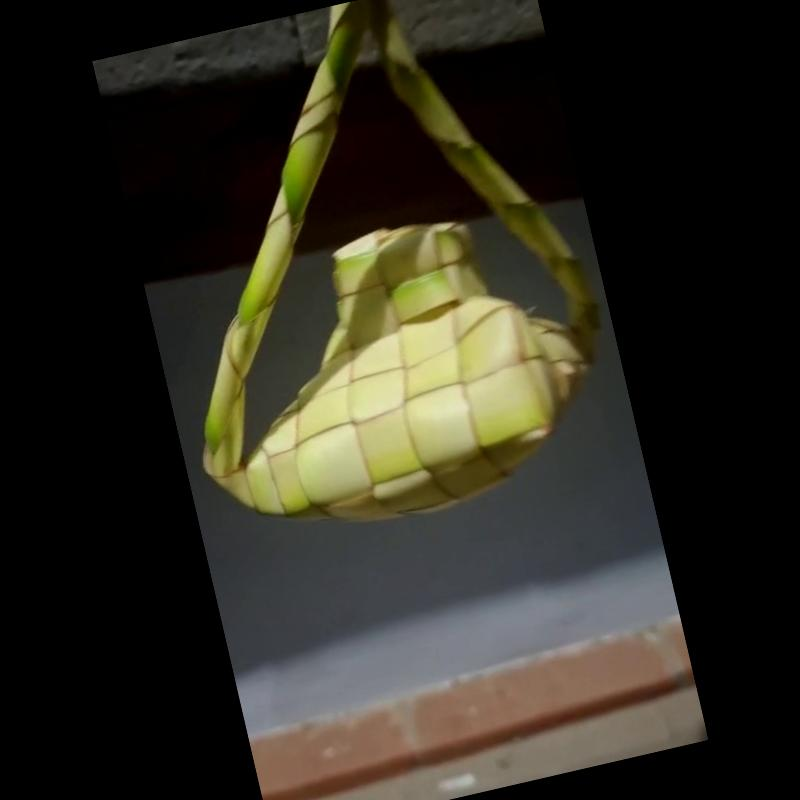Tipat Gong: (201, 0, 600, 530)
